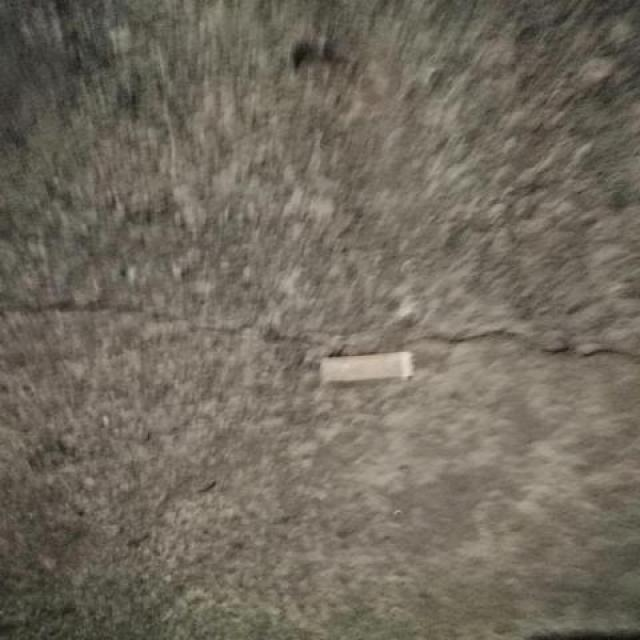non-organic waste: (312, 348, 420, 388)
